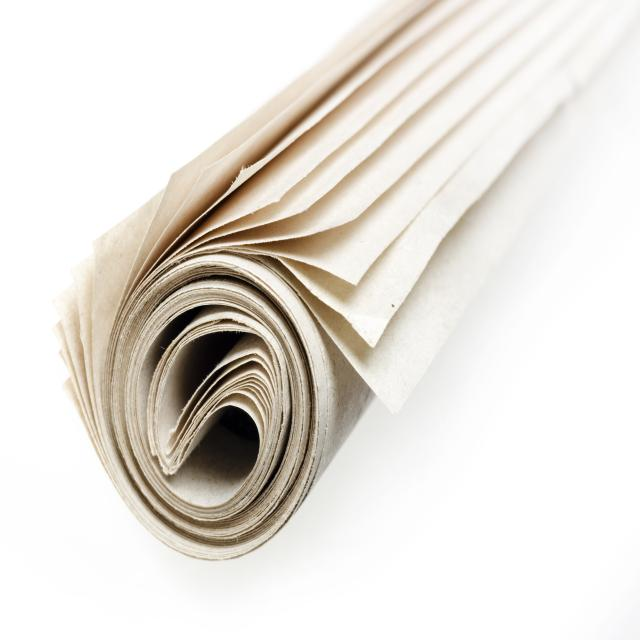paper: (79, 163, 364, 534)
